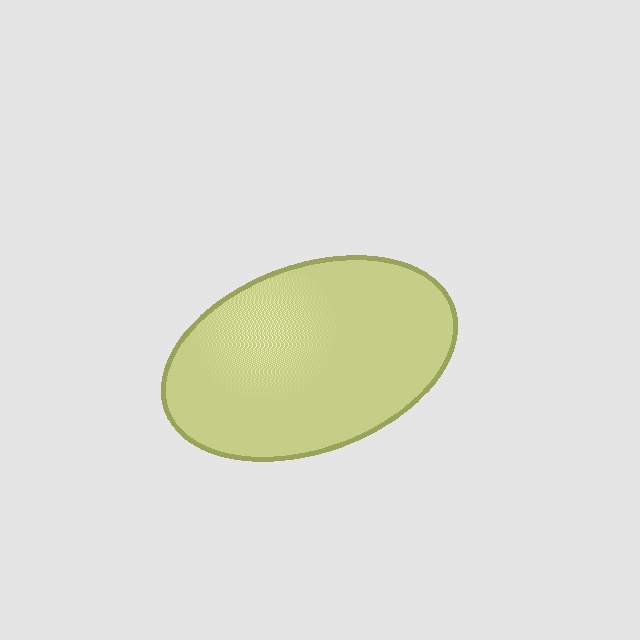lens: (163, 257, 455, 459)
